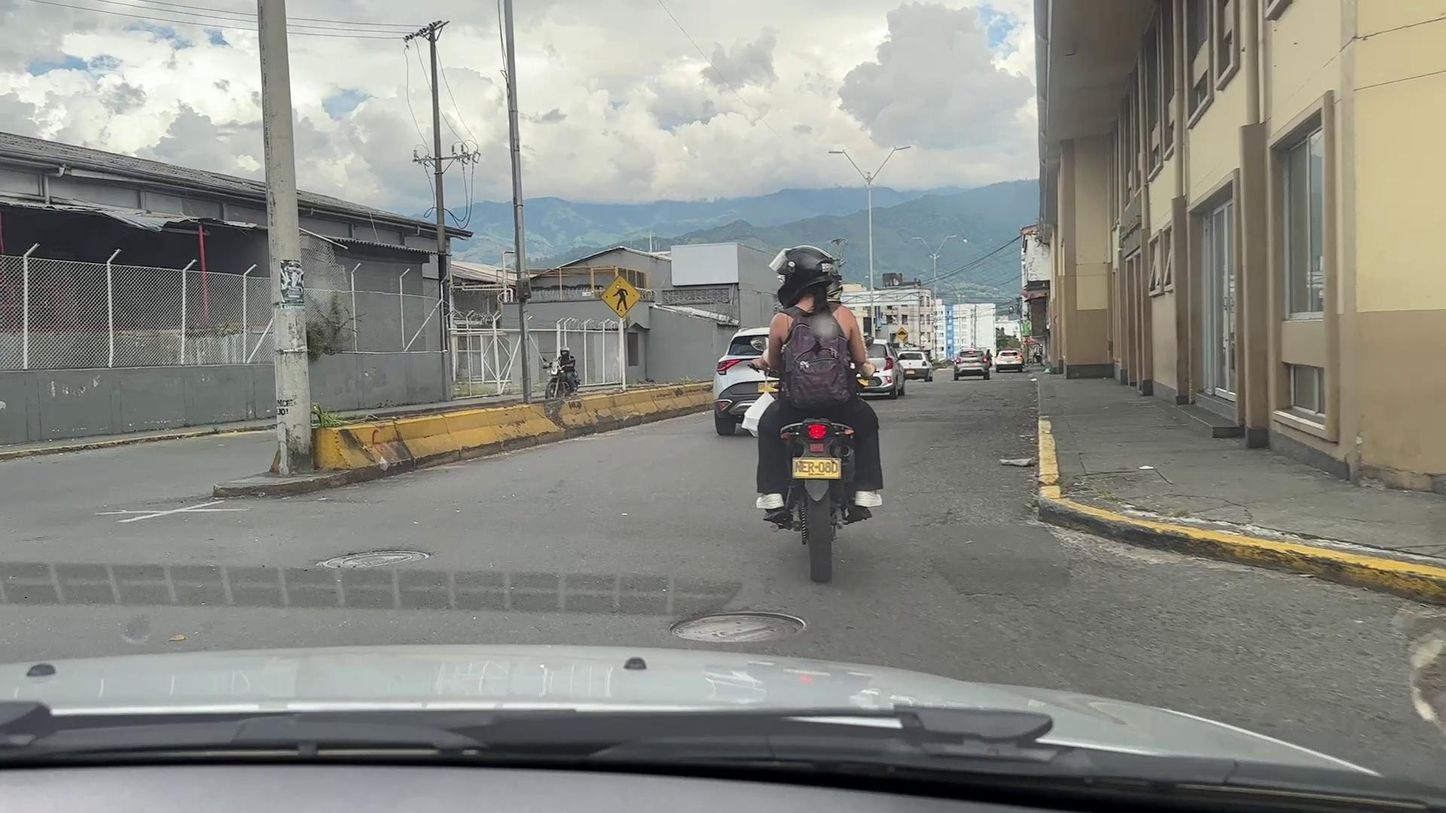registro: (670, 612, 806, 644), (318, 550, 429, 568)
